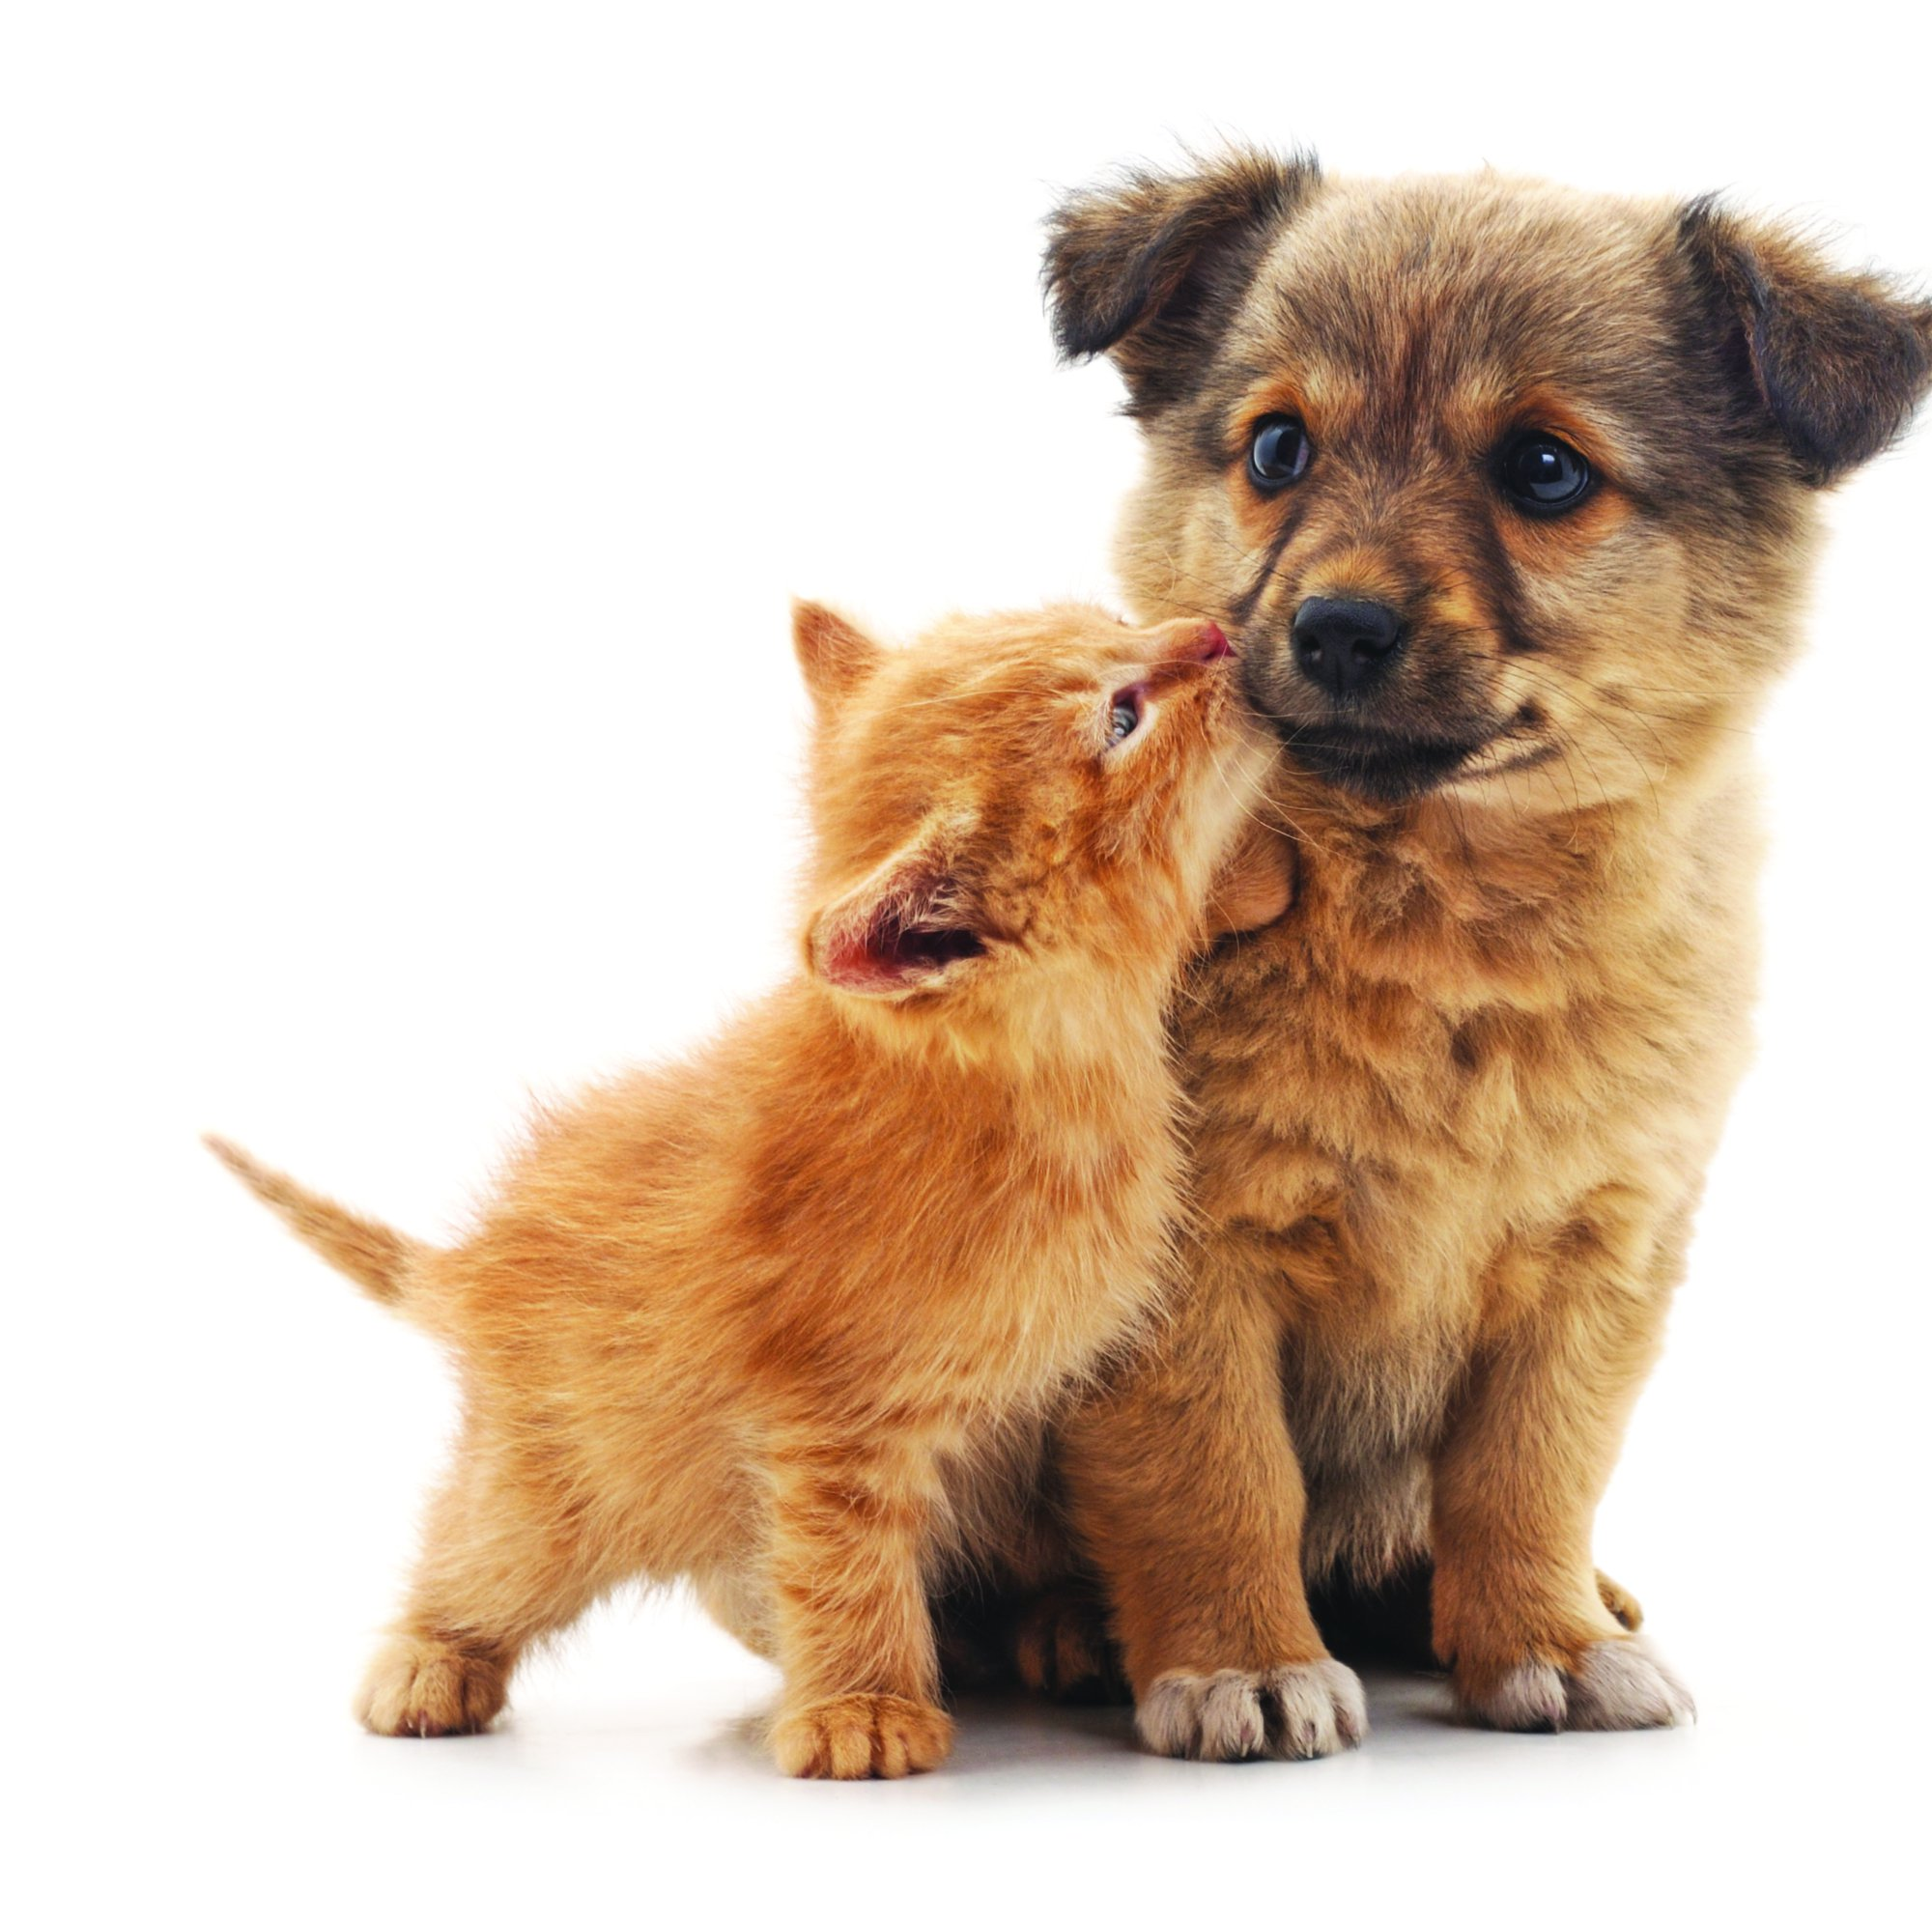cat: (334, 566, 1253, 1793)
dog: (933, 134, 1930, 1756)
